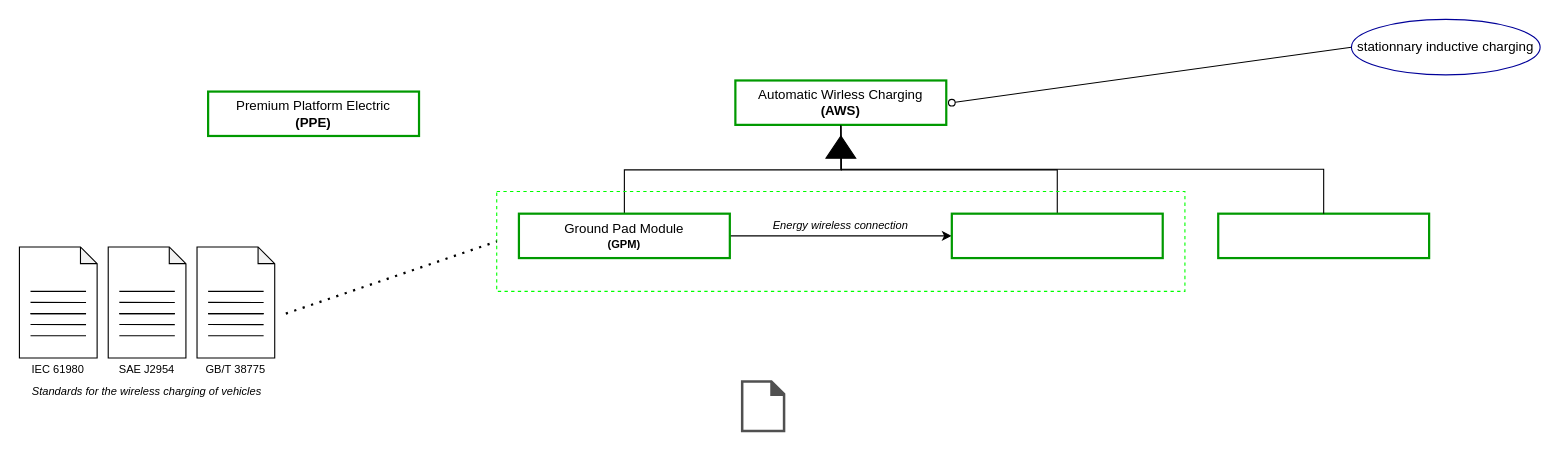
This 1560x452 diagram has some shape labels left out. The box of each missing label's shape, as (x1, y1, x2, y2) in pixels:
Car Pad Module (CPM): (950, 212, 1163, 259)
Positioning System: (1217, 212, 1430, 259)
